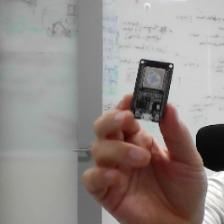esp32: (127, 55, 178, 124)
